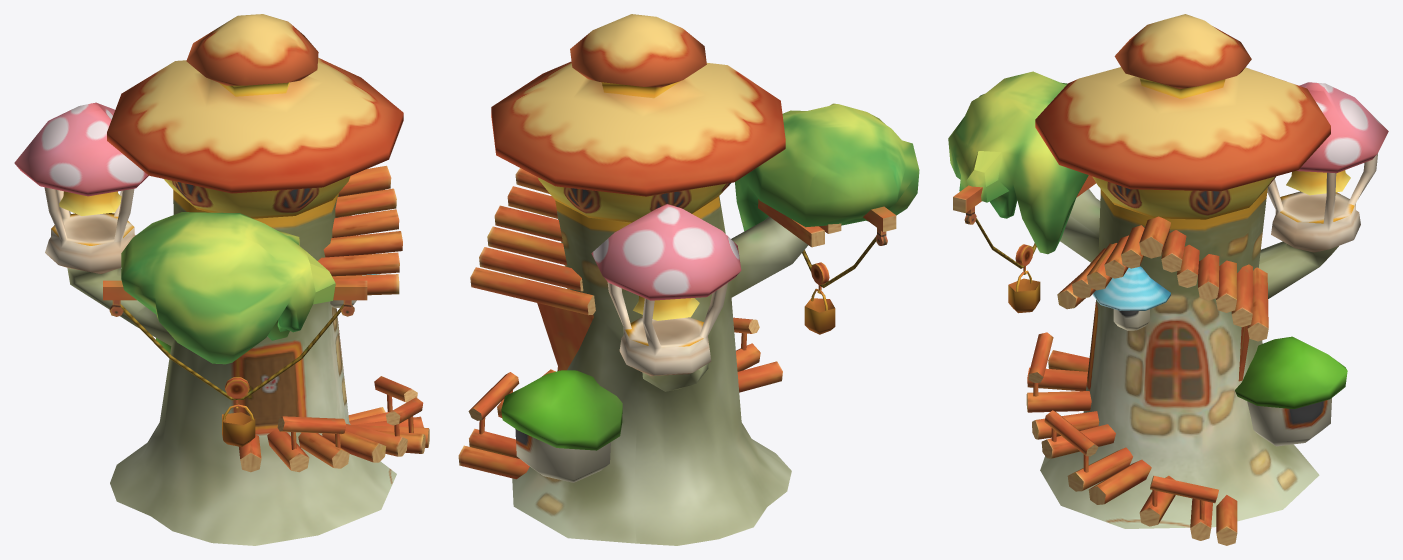
Rendered from tuzihouse_L3.fbx.
3 views of the same model, side by side, from view 1: azimuth 30°, elevation 25°; view 2: azimuth 150°, elevation 25°; view 3: azimuth 270°, elevation 25° (orthographic). The views are drawn at different scales.
Visible parts, largest first — view 1: tuziHouse_Lv3; view 2: tuziHouse_Lv3; view 3: tuziHouse_Lv3.
Boxes of the visible parts, x1=… form: tuziHouse_Lv3: x1=14, y1=14, x2=429, y2=545; tuziHouse_Lv3: x1=458, y1=14, x2=919, y2=545; tuziHouse_Lv3: x1=948, y1=14, x2=1388, y2=545.
Size of the model in its own units: 112 by 139 by 121.
